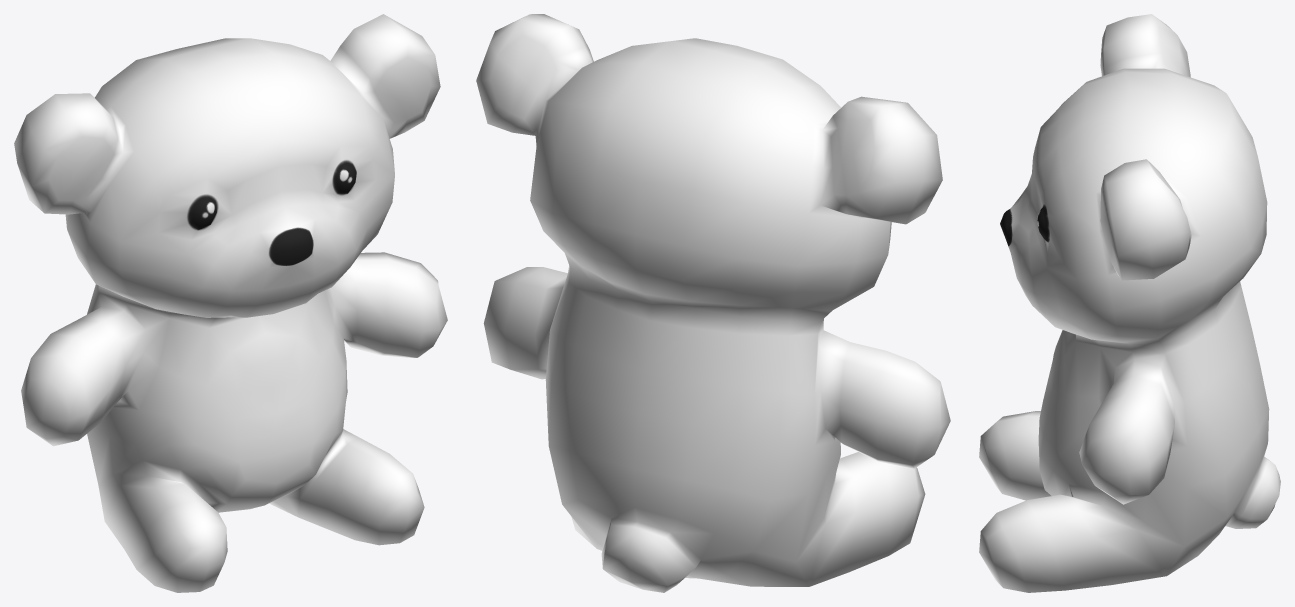
The model's file is nalle hattu.fbx.
The picture shows the model from 3 angles, left to right: view 1: azimuth 30°, elevation 25°; view 2: azimuth 150°, elevation 25°; view 3: azimuth 270°, elevation 25°; orthographic projection. The views are drawn at different scales.
Parts seen in each view (by area): view 1: Cube; view 2: Cube; view 3: Cube.
Boxes of the visible parts, x1,y1,x2,y2 form: Cube: [14, 14, 447, 592]; Cube: [476, 14, 950, 592]; Cube: [979, 14, 1280, 592].
Size of the model in its own units: 24.67 by 26.02 by 15.99.
Materials: 1 (1 with a texture image).
